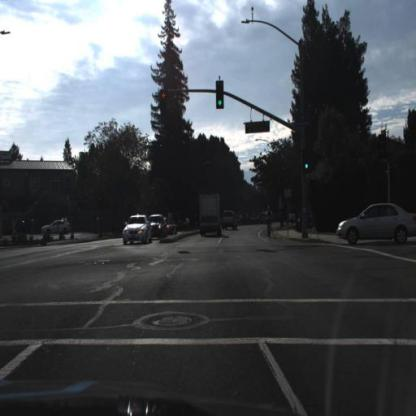biker: (265, 208, 275, 241)
car: (336, 204, 416, 249), (198, 190, 226, 240), (122, 213, 153, 246), (44, 218, 73, 240), (148, 213, 168, 240), (147, 214, 166, 239), (221, 209, 239, 233), (165, 219, 182, 237), (261, 208, 276, 227)
trafficLight-Green: (215, 78, 227, 114), (215, 79, 224, 111), (303, 149, 312, 179), (304, 154, 311, 175)
trafficLight-RedLeft: (160, 89, 170, 115), (161, 85, 168, 105)
truck: (199, 192, 223, 239)
